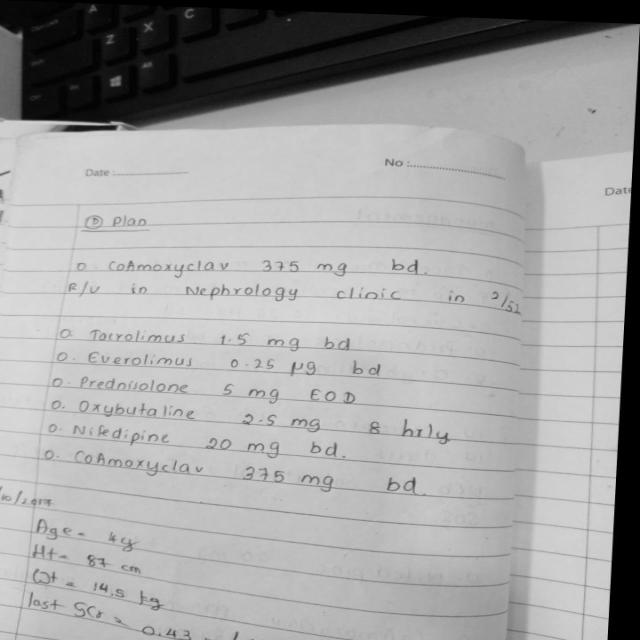Prescription: (71, 444, 434, 498), (74, 398, 477, 440), (73, 417, 352, 457), (79, 369, 379, 403), (83, 346, 399, 378), (104, 243, 430, 274), (86, 316, 369, 349)
